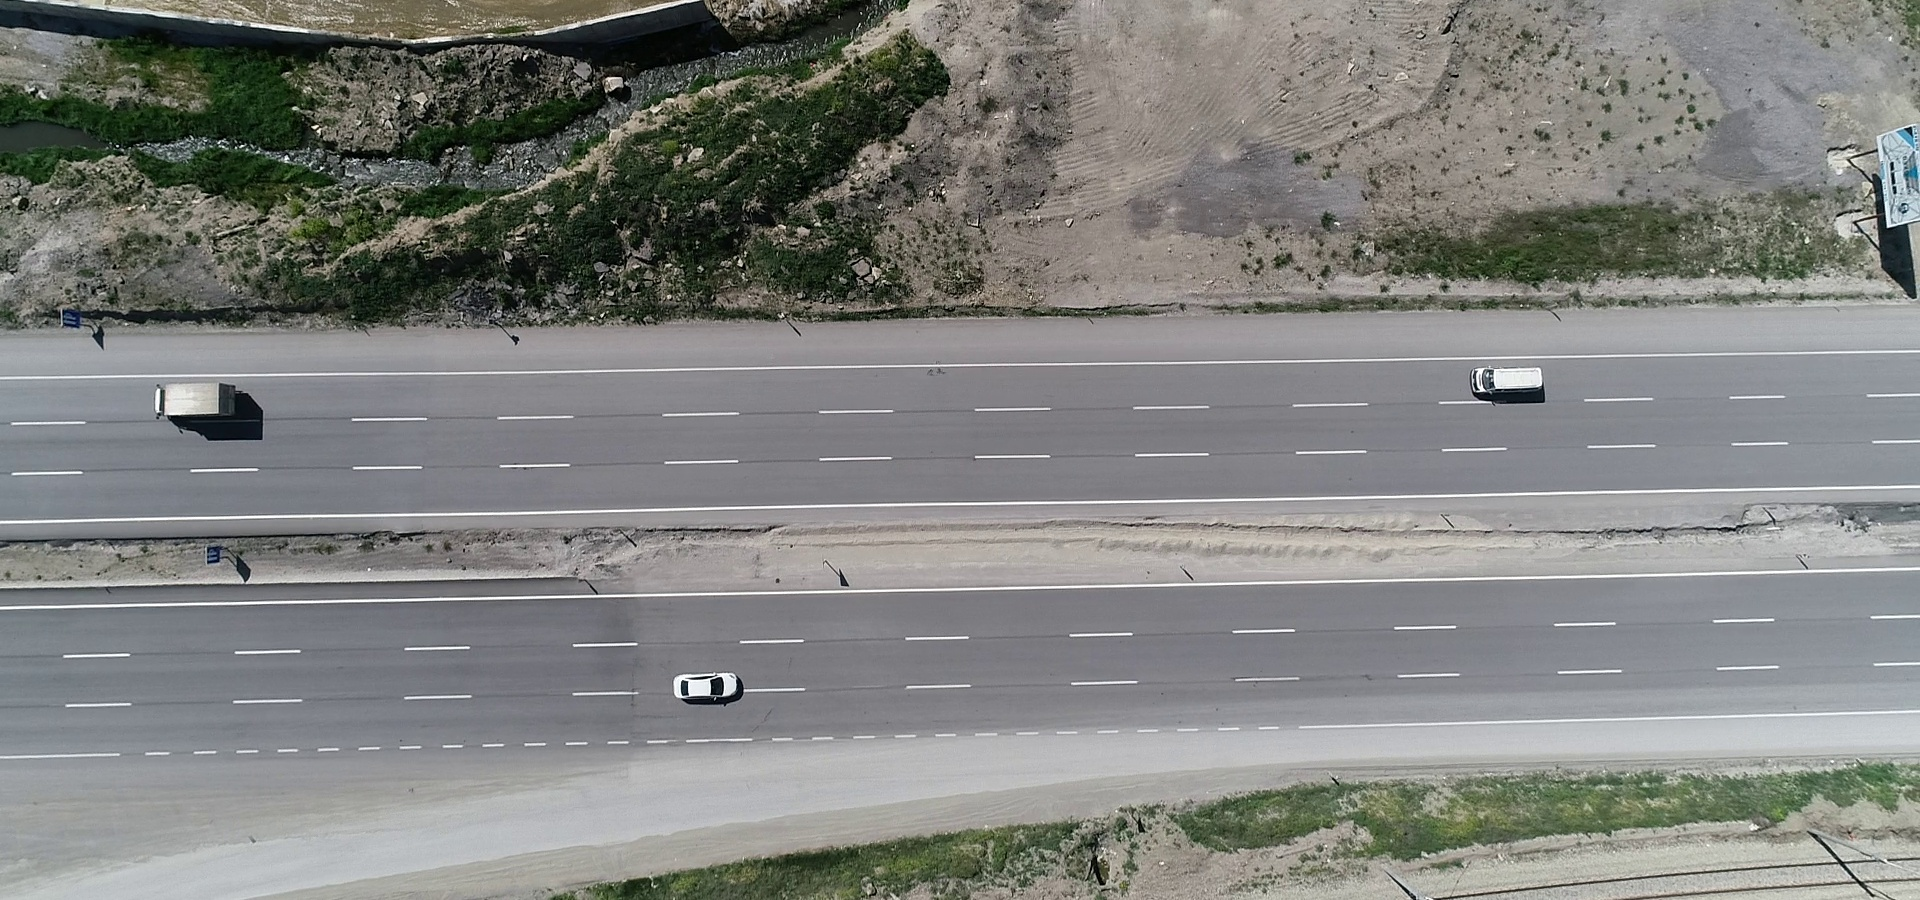arac: (146, 380, 260, 431), (666, 656, 742, 719), (1471, 362, 1542, 404)
